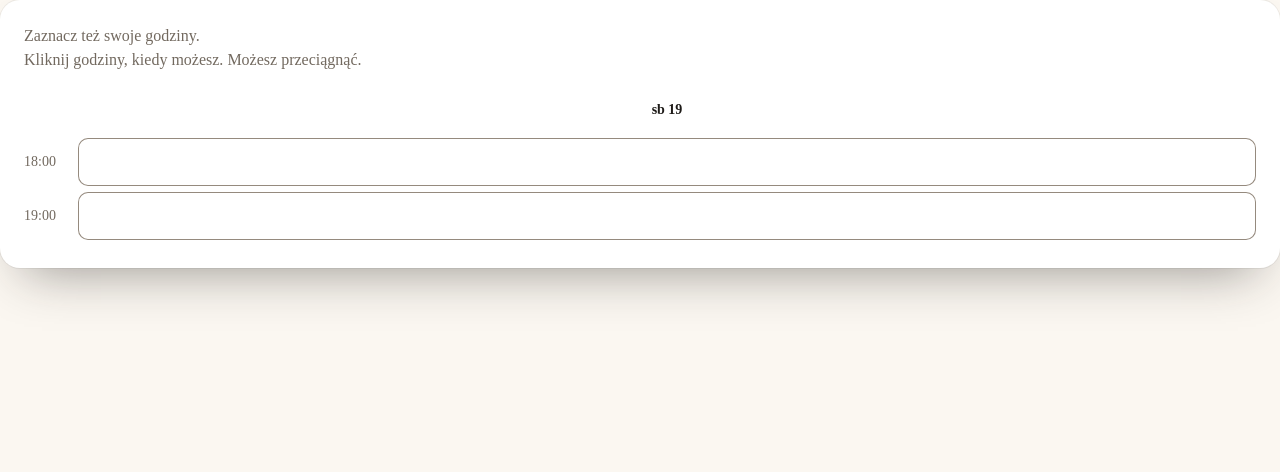
Test case: RefreshAfterSave › shows my saved answer in the results without waiting for the next poll
This screenshot has width=1280, height=472.
Click the button named "sb 19, 18:00": (667, 162) [78,138,1256,186]
Wait 500 ms
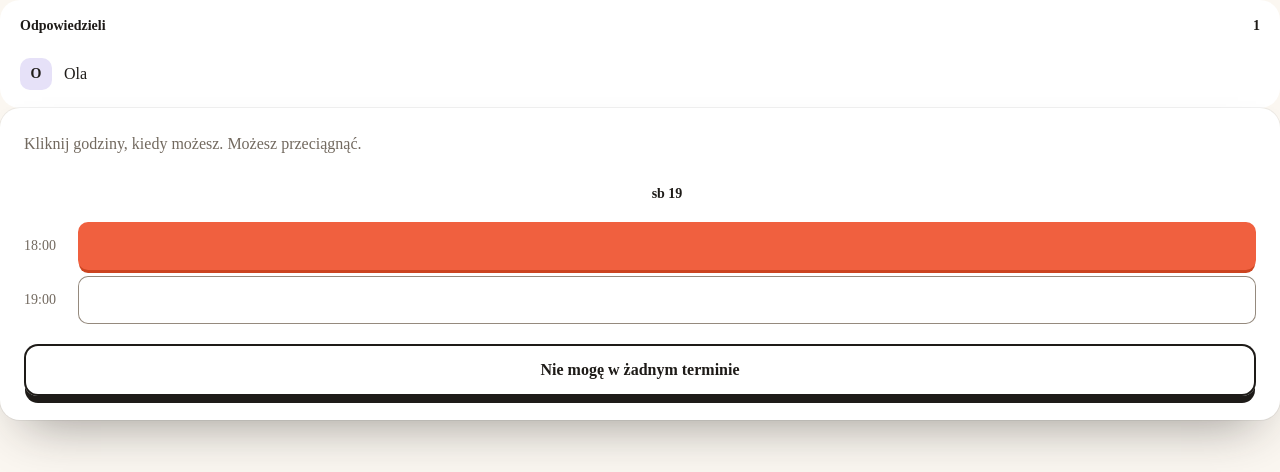
Expected: the list named "Odpowiedzieli" shows "Ola", [64,65,87,82]
